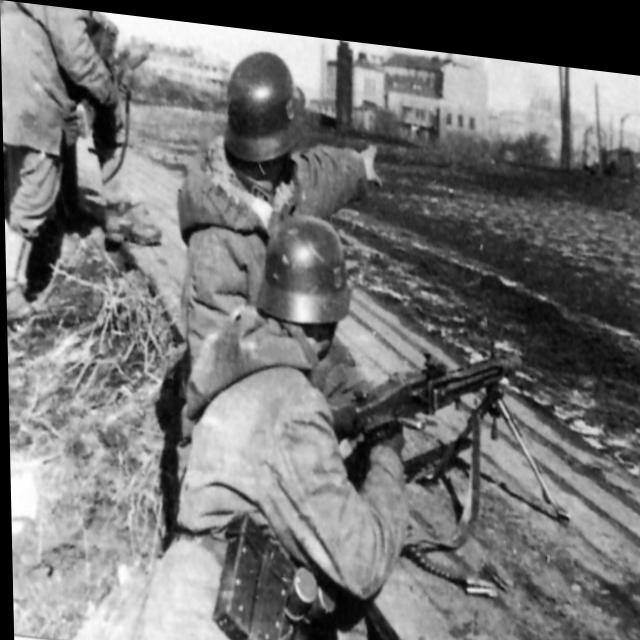other: (116, 198, 386, 640), (176, 41, 366, 223), (0, 0, 89, 186)
